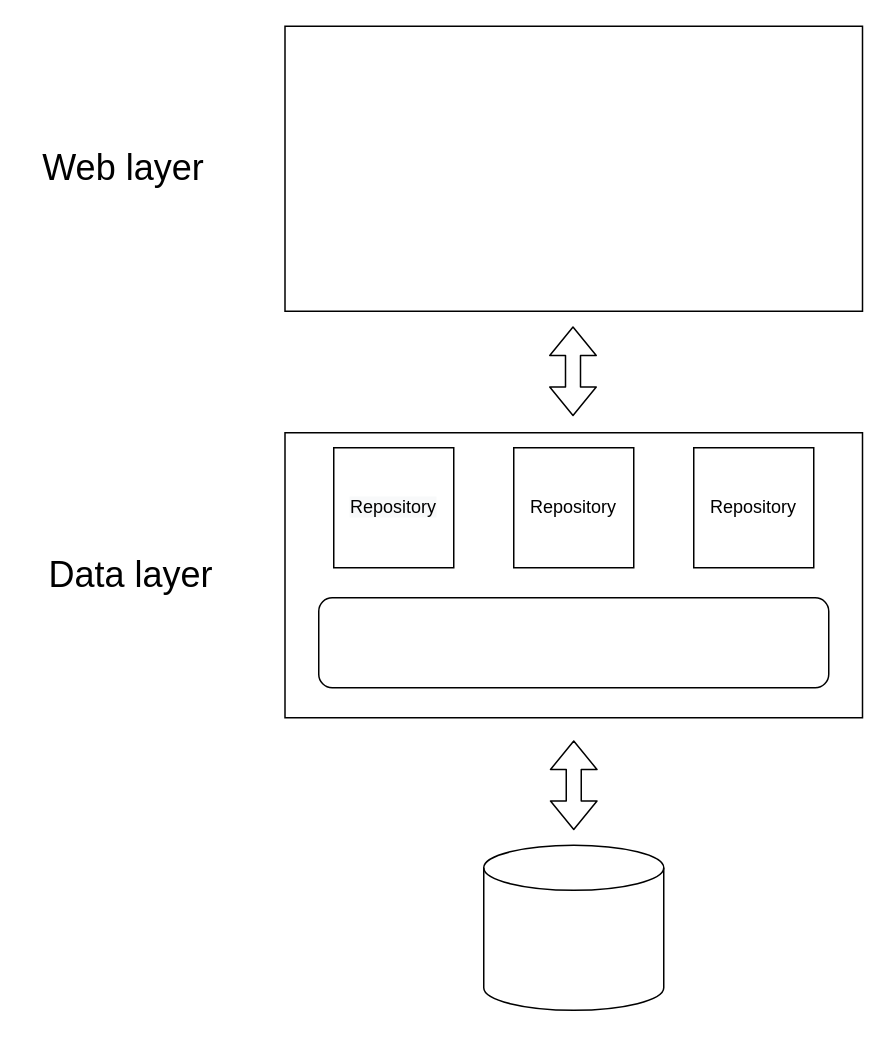
This 888x1037 diagram has some shape labels left out. Here are the shapes that lost their labels. From the top down, the centre of each, then its label:
At (573,642): "Imdb Context".
At (573,927): "Imdb Database".
